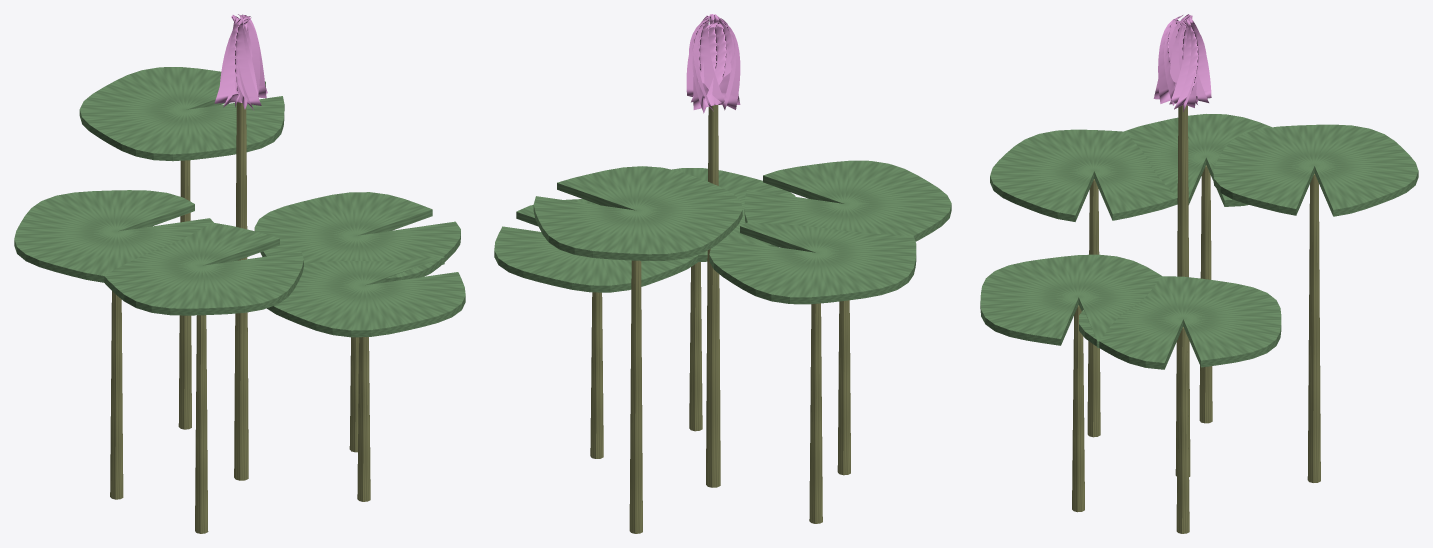
File: lotus_clump.glb
3 renders of one model, left to right at view 1: azimuth 30°, elevation 25°; view 2: azimuth 150°, elevation 25°; view 3: azimuth 270°, elevation 25°, orthographic.
Visible parts, largest first — view 1: lotus-clump; view 2: lotus-clump; view 3: lotus-clump.
Boxes of the visible parts, box(x1,y1,x2,y2) form: lotus-clump: box(14, 14, 465, 533); lotus-clump: box(494, 14, 951, 533); lotus-clump: box(980, 14, 1418, 533).
Bounding box in the file's own units: 1.24 × 1.34 × 1.16.
3 materials, 2 textured.
